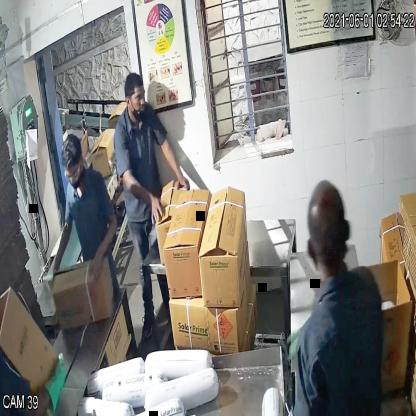goggles: (62, 158, 85, 188)
